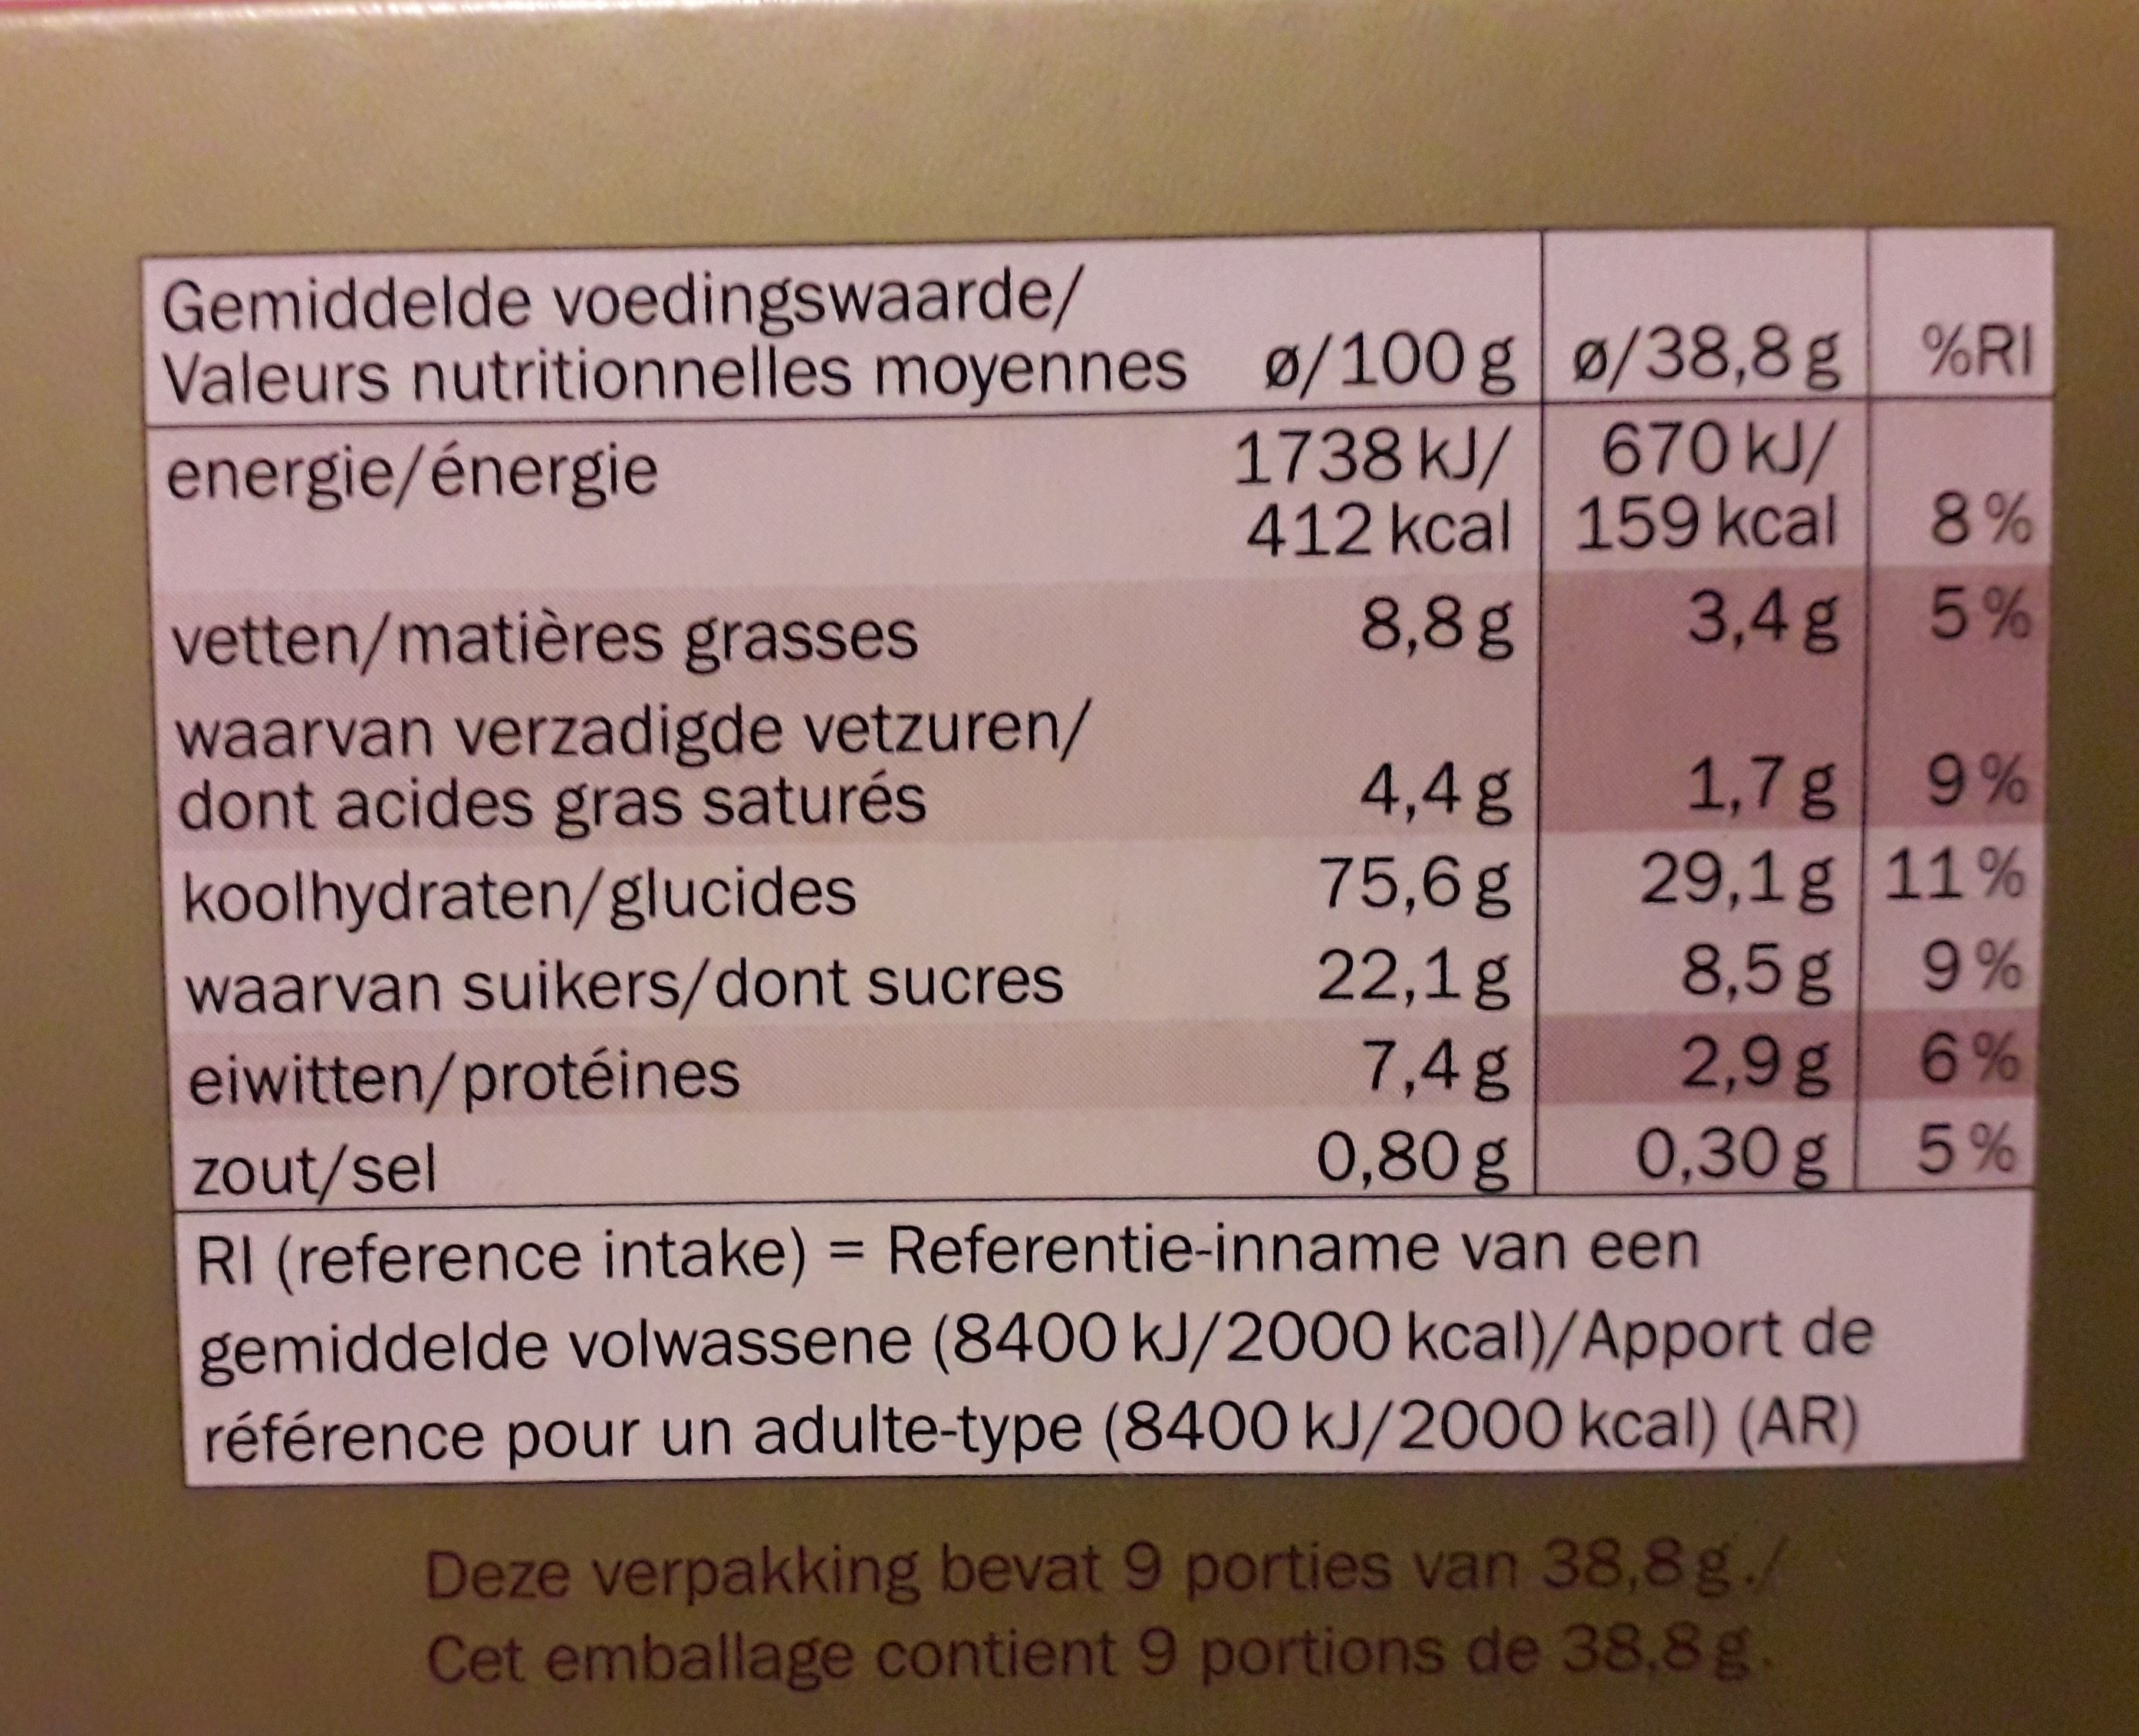column: (156, 257, 1194, 1197), (1554, 259, 1840, 1194), (1239, 326, 1513, 1187), (1877, 257, 2031, 1182)
table: (136, 225, 2059, 1217)
